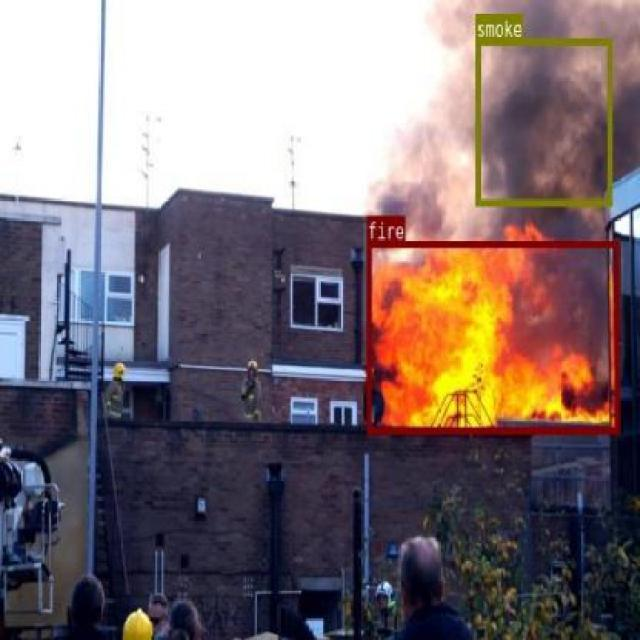fire: (366, 239, 619, 433)
smoke: (475, 38, 611, 204)
